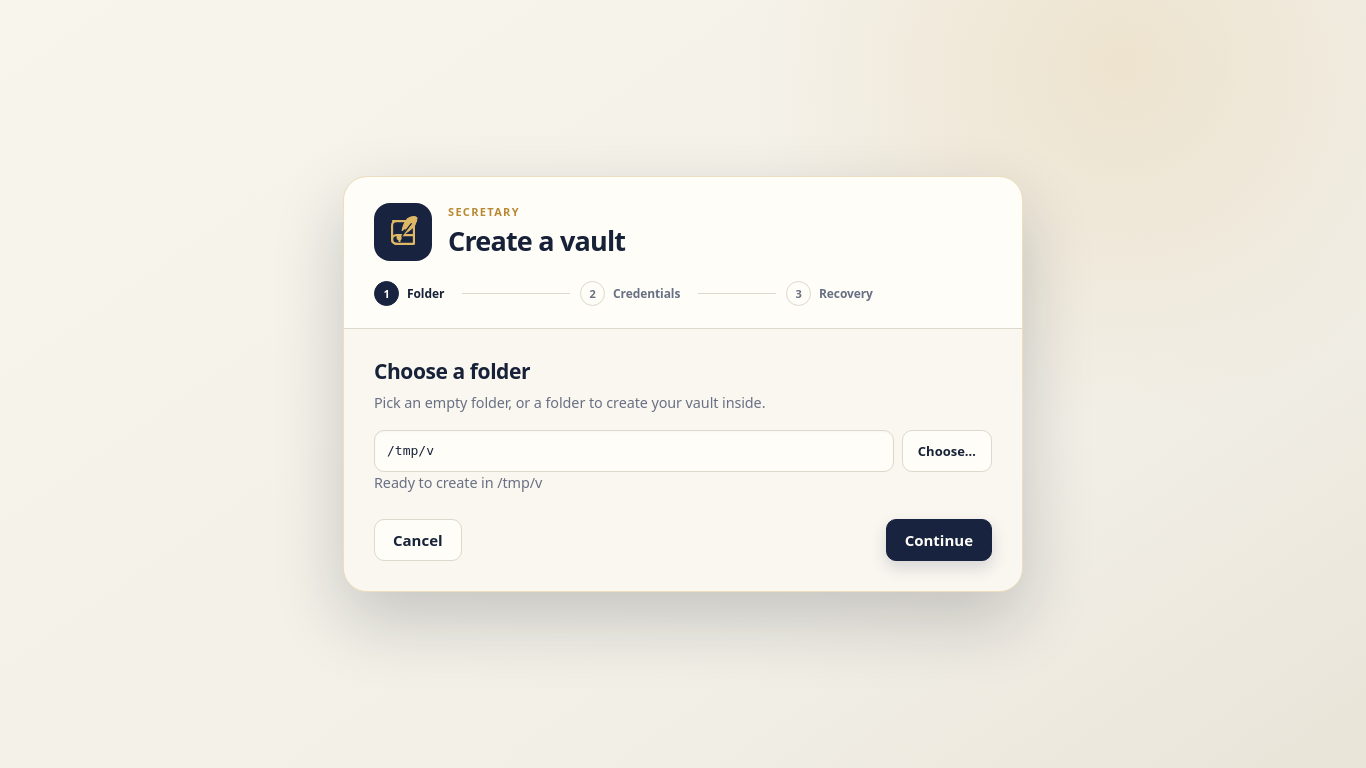
Test: CreateVault host › renders an error and stays put when create rejects
Click the button "Continue" at point(939, 540), box top-left (886, 519), bottom-right (992, 561)
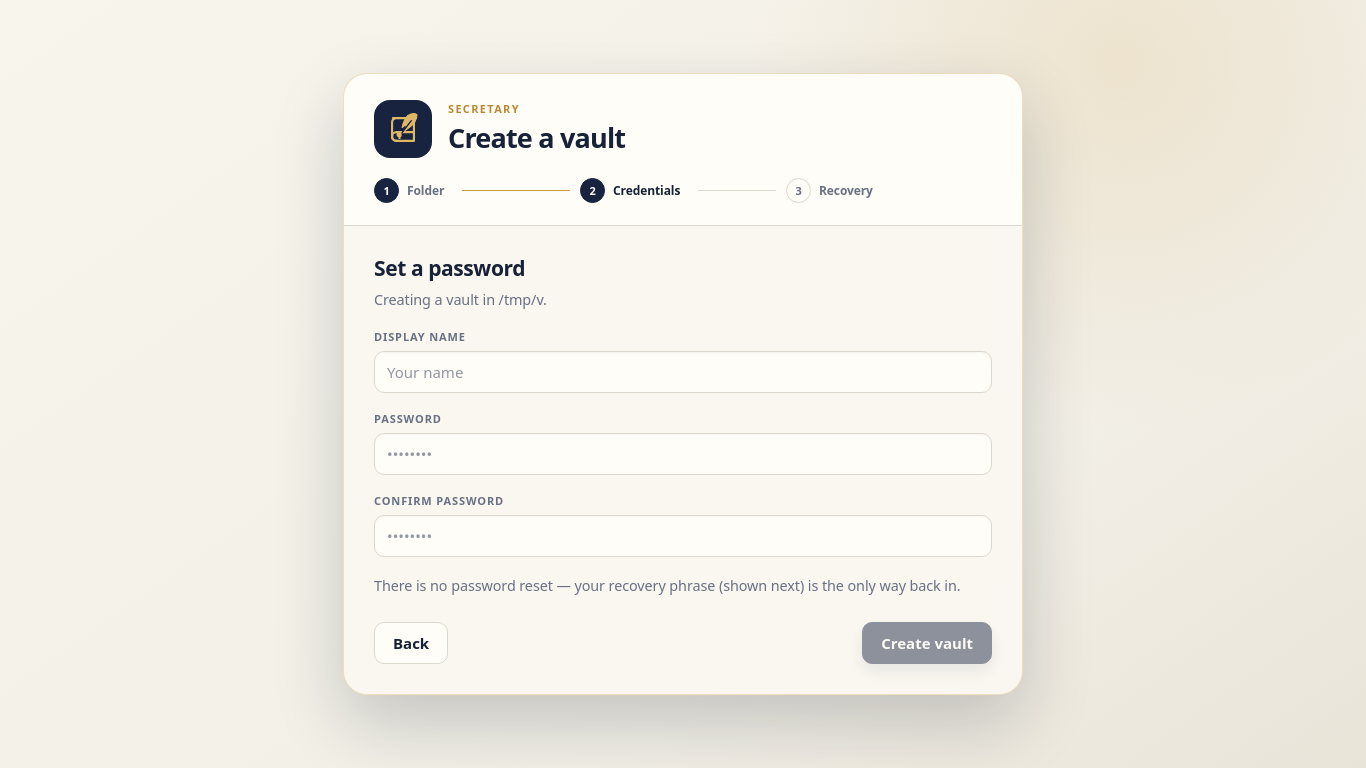
Type "Me" into the field labelled "Display name" at point(683, 372), box top-left (374, 350), bottom-right (992, 392)
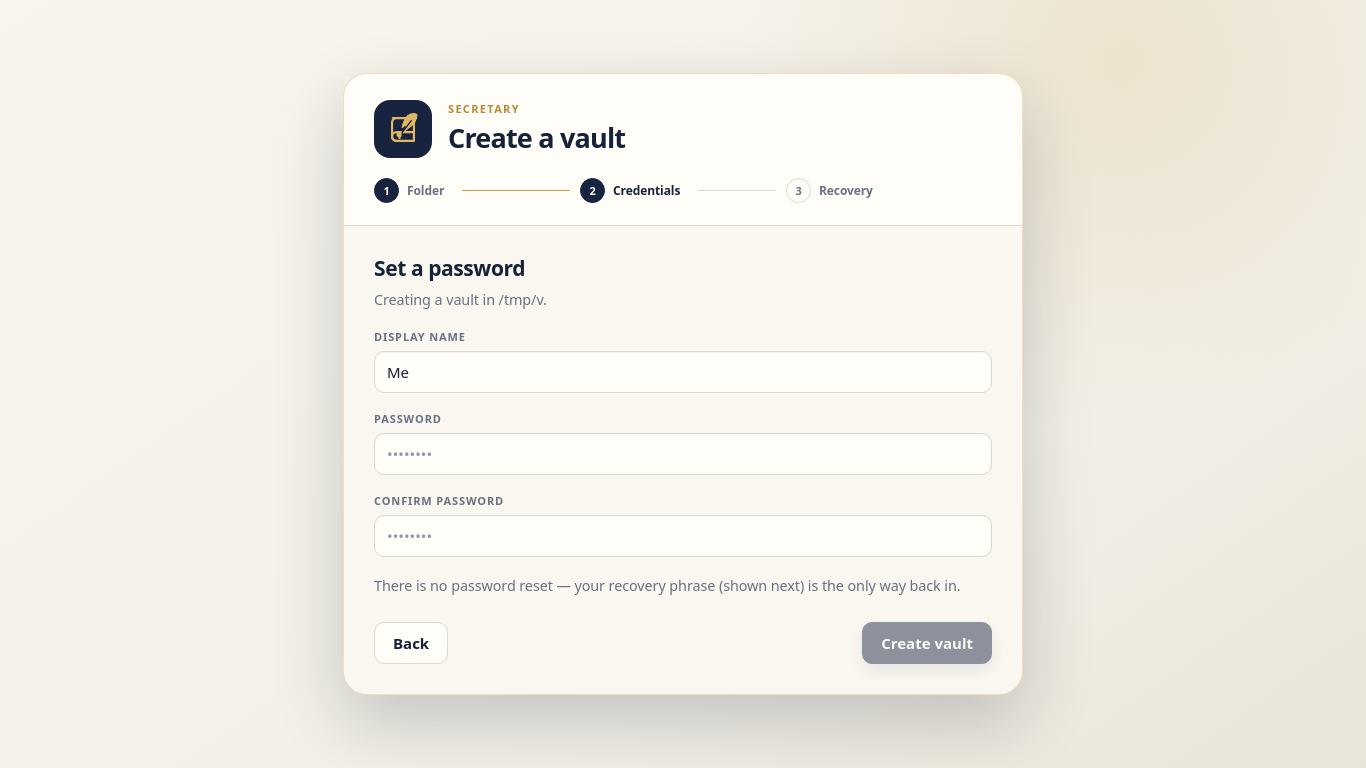
Type "pw" into the password field labelled "Password" at point(683, 454), box top-left (374, 432), bottom-right (992, 474)
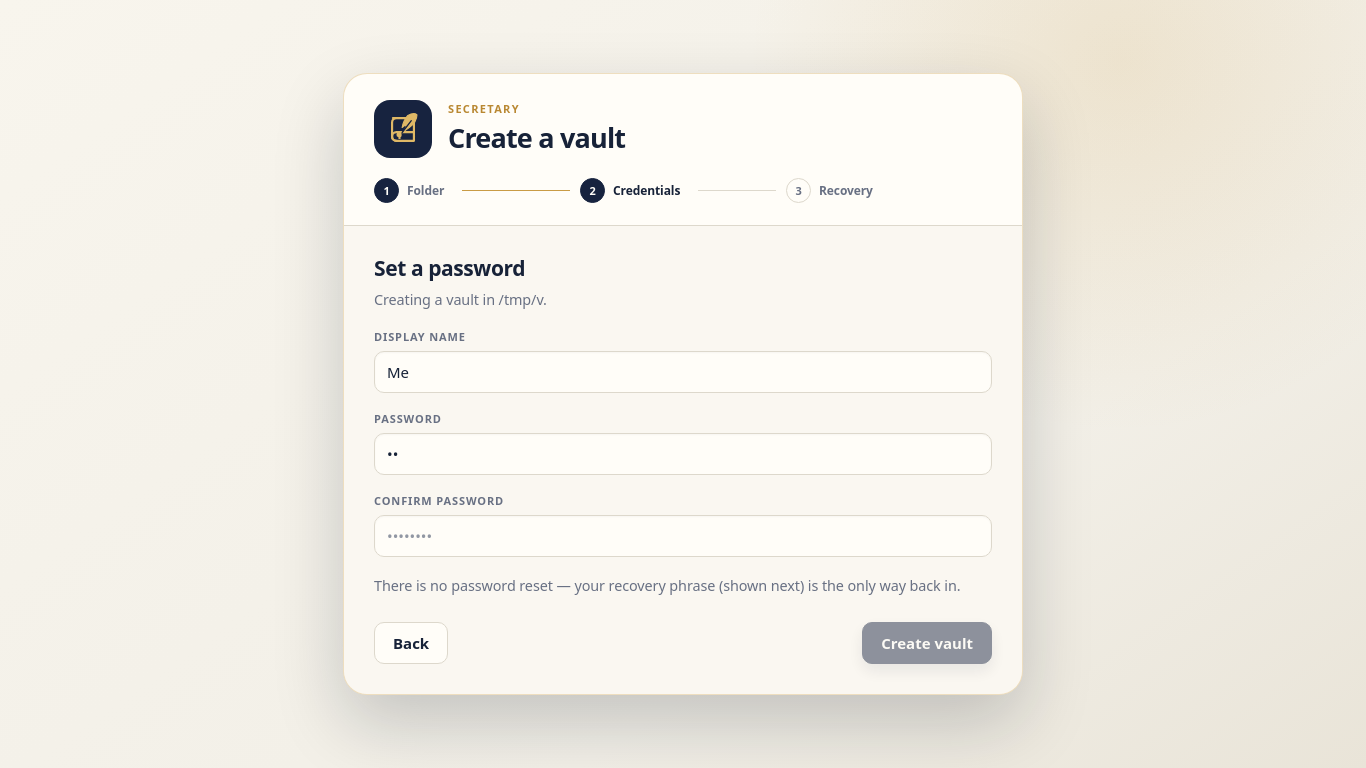
Type "pw" into the password field labelled "Confirm password" at point(683, 536), box top-left (374, 514), bottom-right (992, 556)
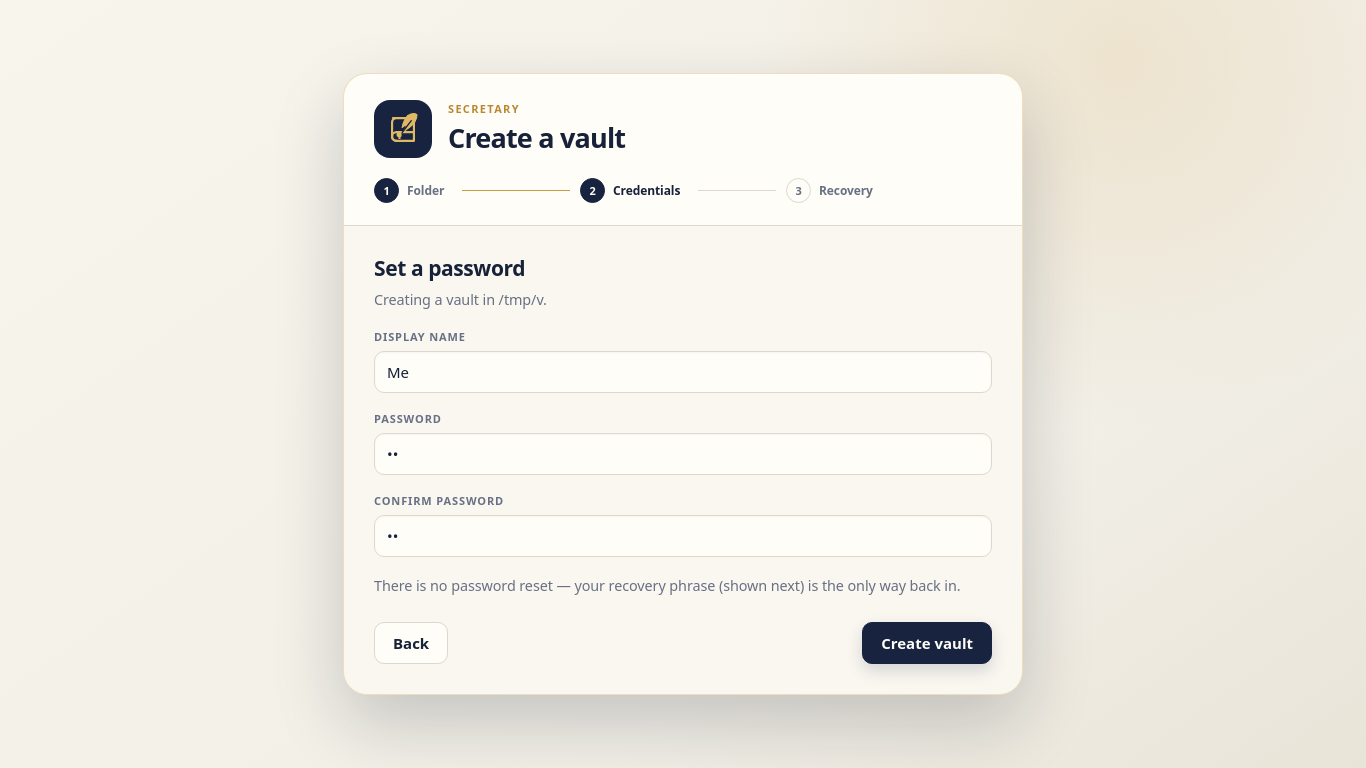
Click the button "Create vault" at point(927, 643), box top-left (862, 622), bottom-right (992, 664)
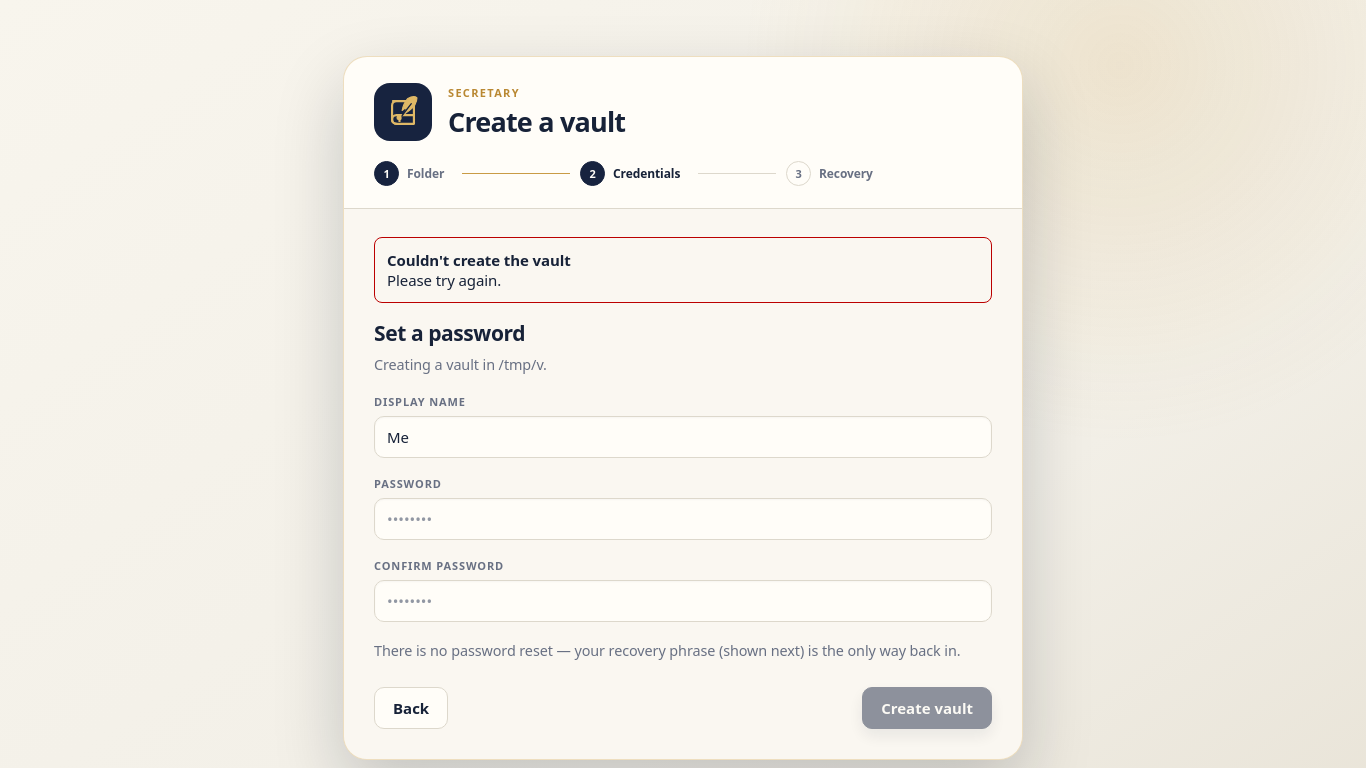
Now the text "Couldn't create the vault" is shown, box top-left (387, 250), bottom-right (571, 270)
